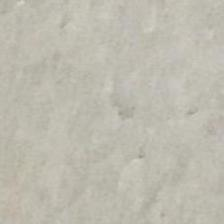Non_Crack: (20, 44, 200, 198)
